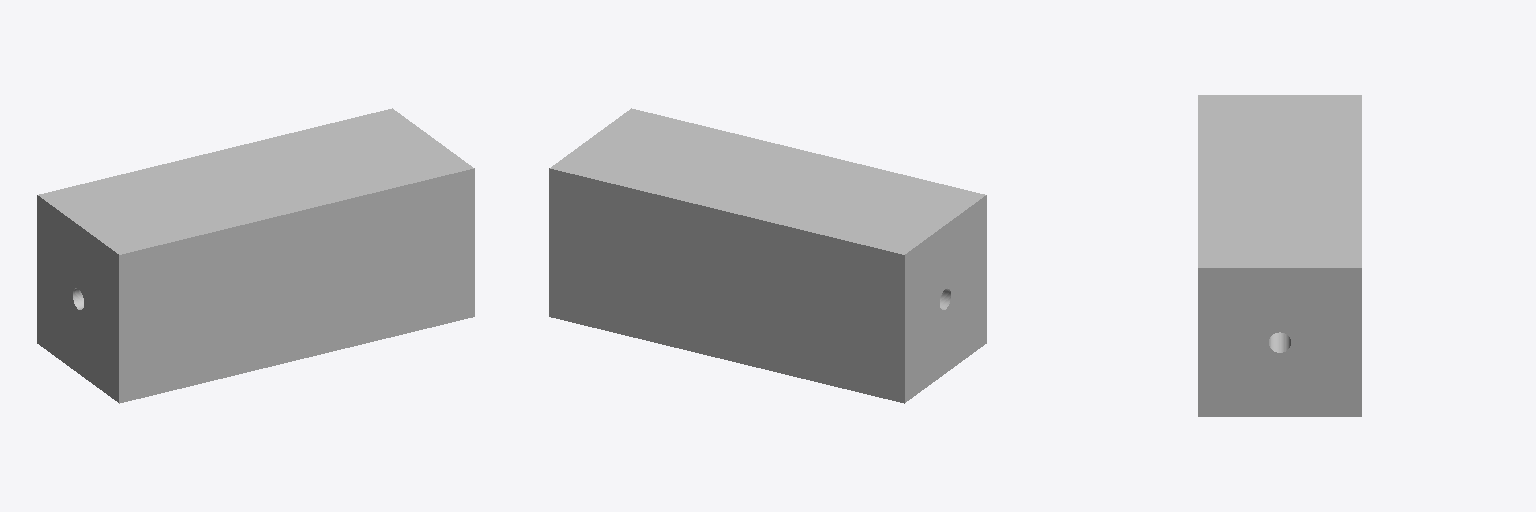
File: holeaprile2draw.obj
3 views of the same model, side by side, from view 1: azimuth 30°, elevation 25°; view 2: azimuth 150°, elevation 25°; view 3: azimuth 270°, elevation 25° (orthographic).
Parts seen in each view (by area): view 1: 1; view 2: 1; view 3: 1, 3.
Boxes of the visible parts, x1,y1,x2,y2 form: 1: [37, 108, 474, 403]; 1: [549, 108, 986, 403]; 1: [1198, 95, 1361, 267]; 3: [1198, 268, 1361, 416].
Bounding box in the file's own units: 2 × 0.8 × 0.8.